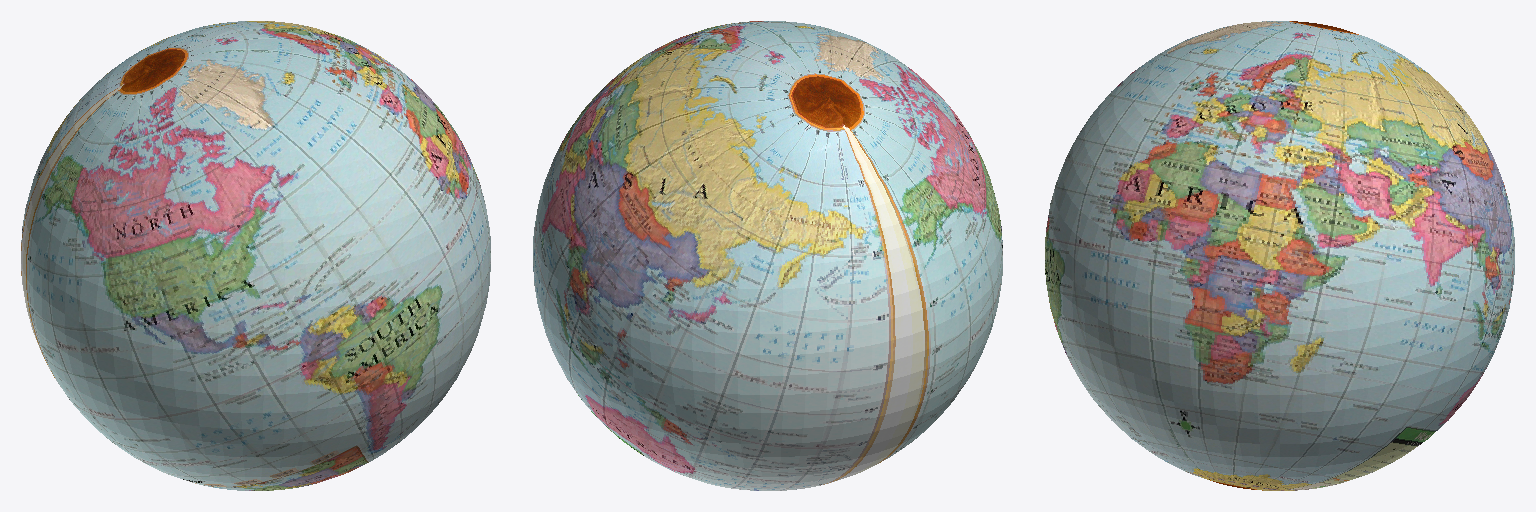
3 renders of one model, left to right at view 1: azimuth 30°, elevation 25°; view 2: azimuth 150°, elevation 25°; view 3: azimuth 270°, elevation 25°, orthographic.
Visible parts, largest first — view 1: Sphere; view 2: Sphere; view 3: Sphere.
Part boxes in pixels (left/top/right/bottom): Sphere: left=21, top=21, right=490, bottom=490; Sphere: left=533, top=21, right=1002, bottom=490; Sphere: left=1045, top=21, right=1514, bottom=490.
Size of the model in its own units: 2 by 2 by 2.
1 materials, 1 textured.